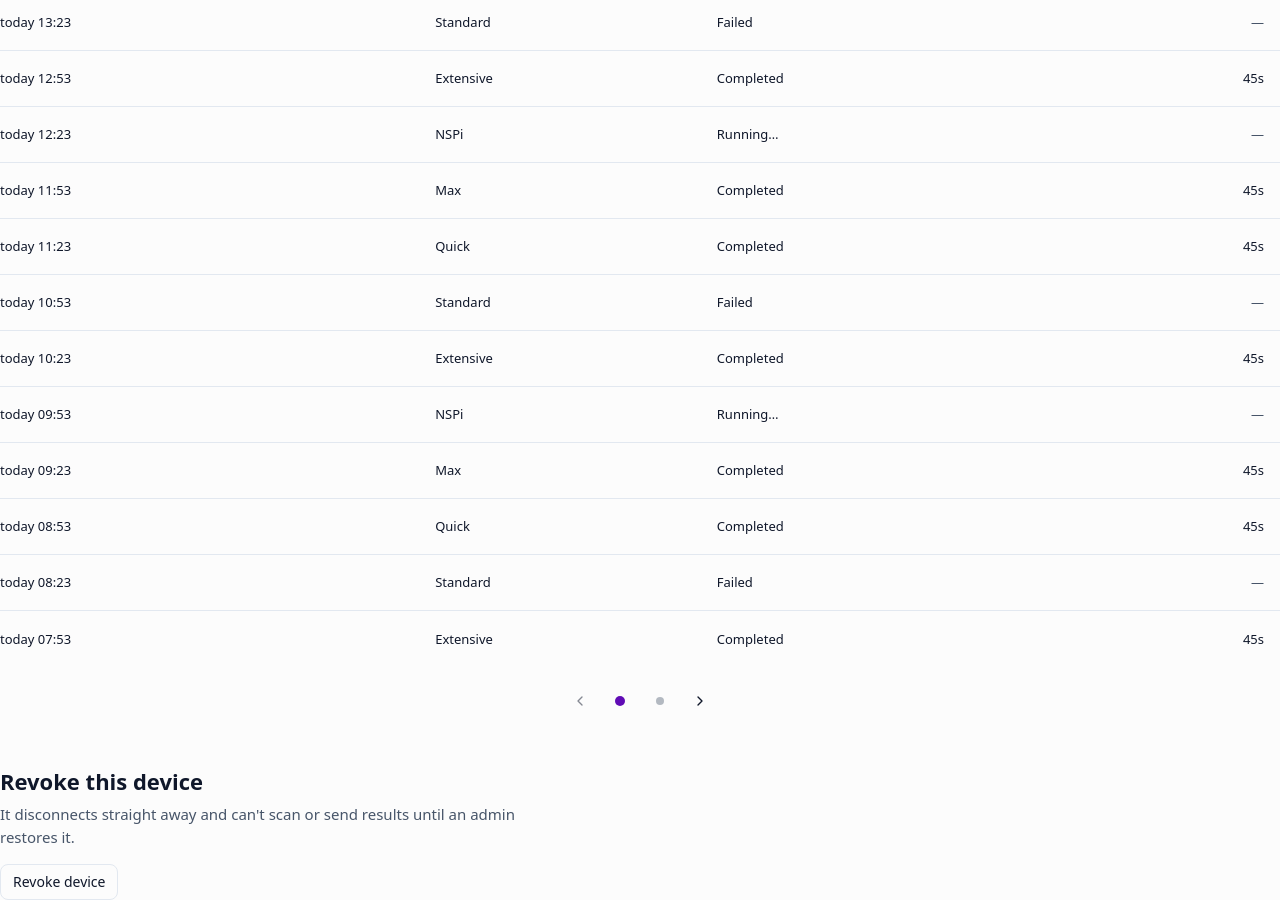
Test: DeviceDetail revocation › cancels revoke without sending a request
(page scrolled)
Click the button with test id "device-revoke-trigger".
click(59, 882)  # box [0,864,118,899]
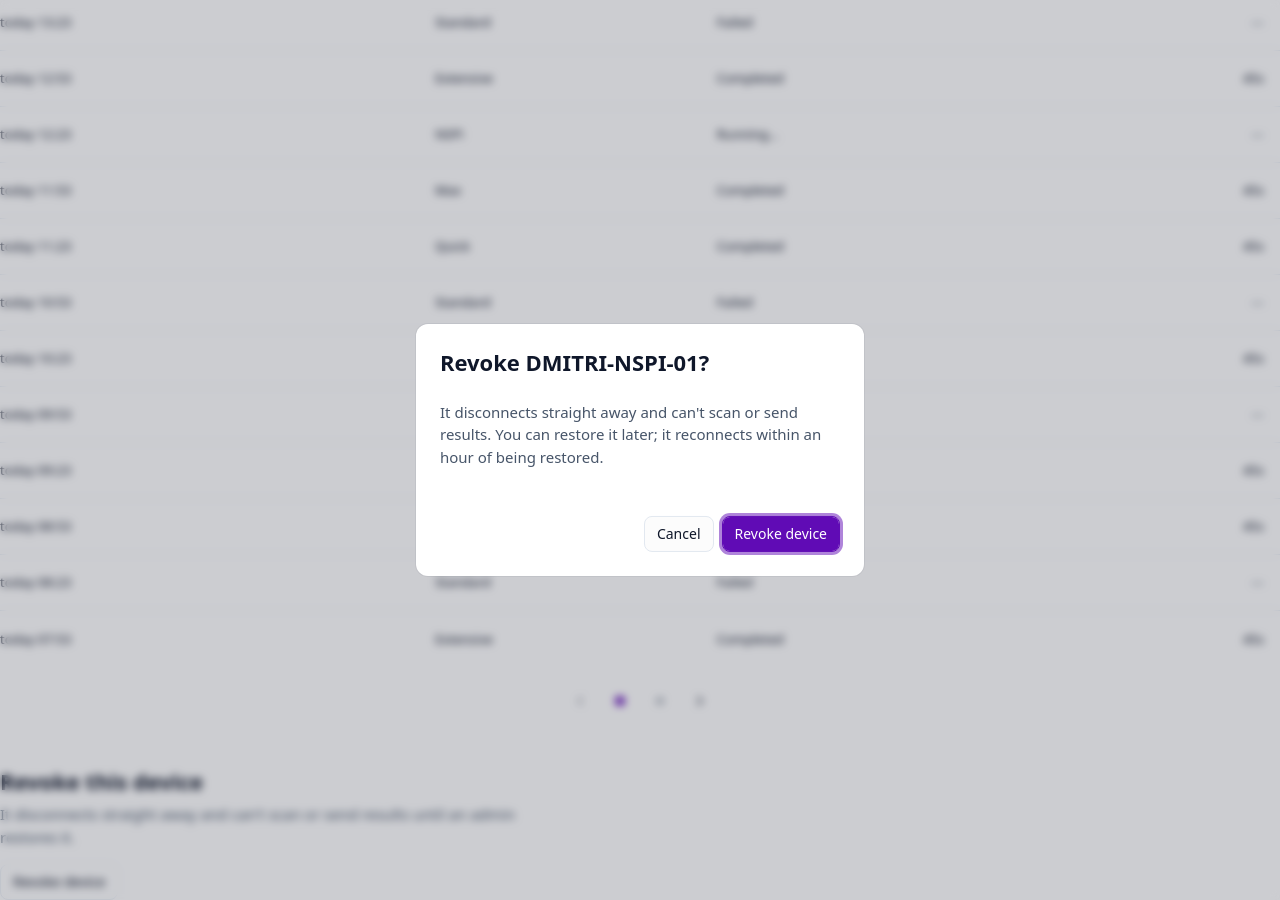
Click the button with test id "device-revoke-cancel".
click(679, 534)  # box [644,516,714,552]
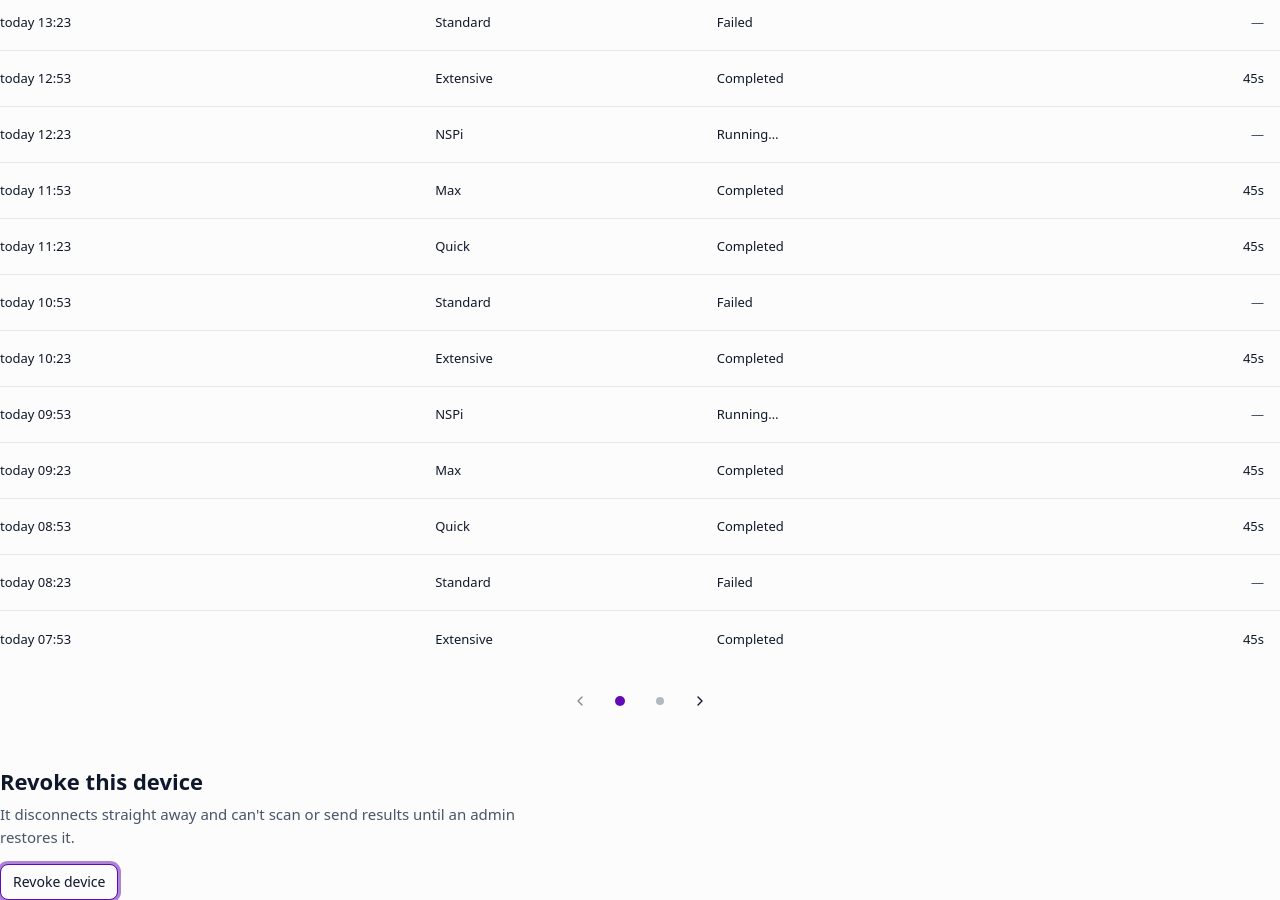
Now the dialog with test id "device-revoke-dialog" is gone
